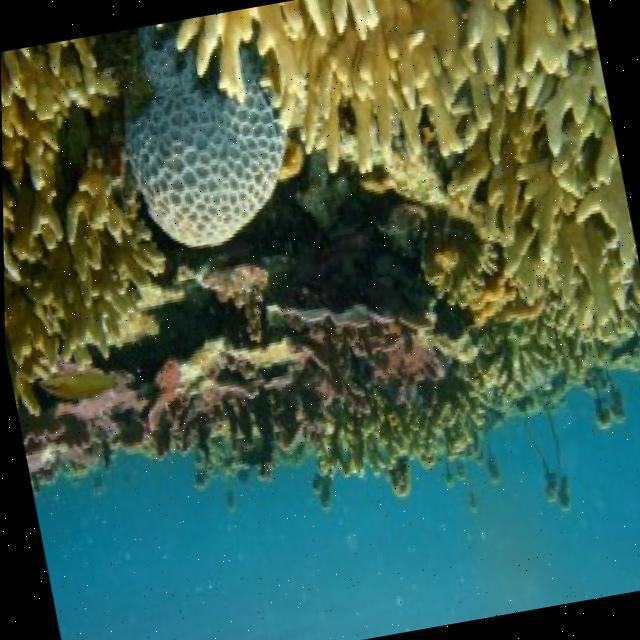Bleached Coral: (68, 17, 328, 295)
